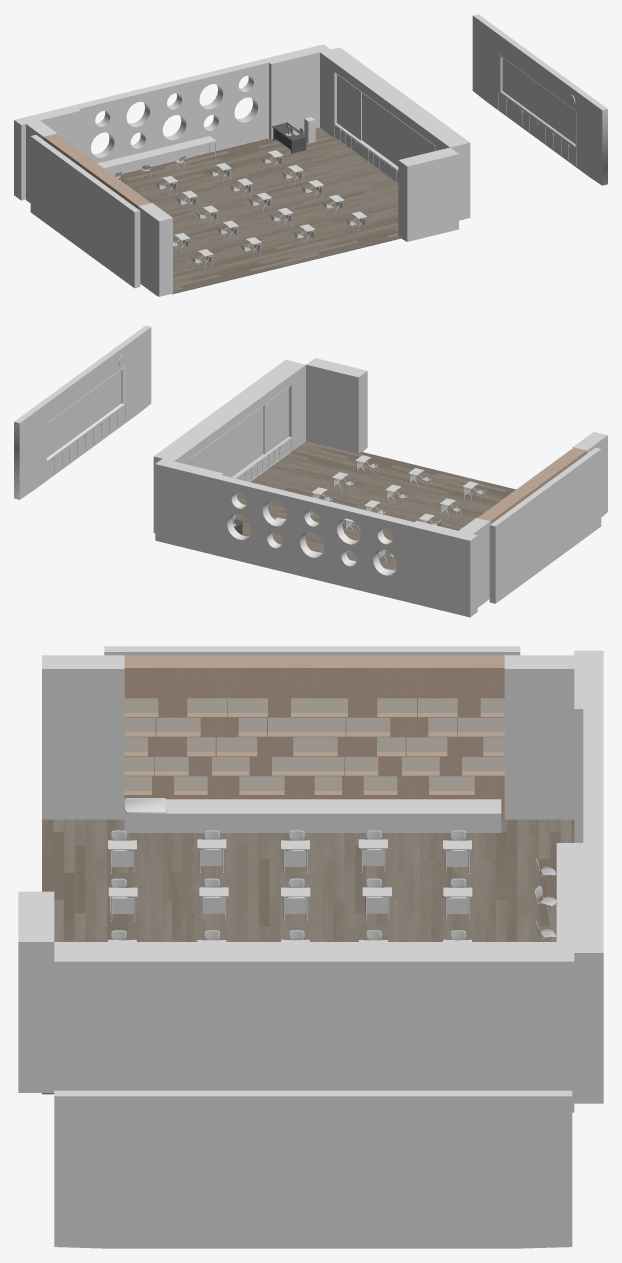
The model's file is class room.fbx.
3 views of the same model, one above another, from view 1: azimuth 30°, elevation 25°; view 2: azimuth 150°, elevation 25°; view 3: azimuth 270°, elevation 25° (orthographic). The views are drawn at different scales.
Parts seen in each view (by area): view 1: Box001, Box152, Box007, Box011, Box151, Box101, Box158, Box016, screen, Box159, Object005, Box019 (+6 smaller); view 2: Box152, Box001, Box007, Box011, Box151, Box159, Box101, Box158, screen, Object005, Box168, Box016 (+4 smaller); view 3: Box007, Box151, Box001, Box150, Box015, Box016, Box017, Box168, Box101, Box158, Box011, Box152 (+2 smaller).
Boxes of the visible parts, left/top/right/bottom form: Box001: left=118, top=128, right=401, bottom=294; Box152: left=74, top=59, right=268, bottom=175; Box007: left=472, top=14, right=607, bottom=185; Box011: left=30, top=135, right=140, bottom=288; Box151: left=320, top=47, right=470, bottom=220; Box101: left=398, top=147, right=458, bottom=241; Box158: left=264, top=44, right=330, bottom=139; Box016: left=138, top=203, right=172, bottom=296; screen: left=362, top=93, right=413, bottom=166; Box159: left=14, top=105, right=80, bottom=200; Object005: left=337, top=74, right=434, bottom=156; Box019: left=97, top=136, right=216, bottom=168; Box152: left=216, top=475, right=413, bottom=602; Box001: left=235, top=441, right=515, bottom=570; Box007: left=14, top=325, right=151, bottom=499; Box011: left=489, top=447, right=601, bottom=603; Box151: left=153, top=360, right=305, bottom=533; Box159: left=409, top=520, right=477, bottom=617; Box101: left=306, top=358, right=367, bottom=453; Box158: left=155, top=458, right=223, bottom=555; screen: left=211, top=406, right=263, bottom=477; Object005: left=189, top=387, right=288, bottom=470; Box168: left=459, top=518, right=490, bottom=607; Box016: left=572, top=432, right=607, bottom=516; Box007: left=54, top=1090, right=572, bottom=1248; Box151: left=54, top=942, right=574, bottom=1112; Box001: left=42, top=818, right=574, bottom=1094; Box150: left=314, top=655, right=504, bottom=818; Box015: left=124, top=655, right=314, bottom=799; Box016: left=42, top=655, right=124, bottom=819; Box017: left=124, top=799, right=501, bottom=832; Box168: left=504, top=655, right=574, bottom=819; Box101: left=18, top=891, right=54, bottom=1092; Box158: left=574, top=894, right=603, bottom=1103; Box011: left=104, top=646, right=520, bottom=655; Box152: left=583, top=709, right=603, bottom=894.
Bounding box in the file's own units: 2559 × 404 × 1406.
